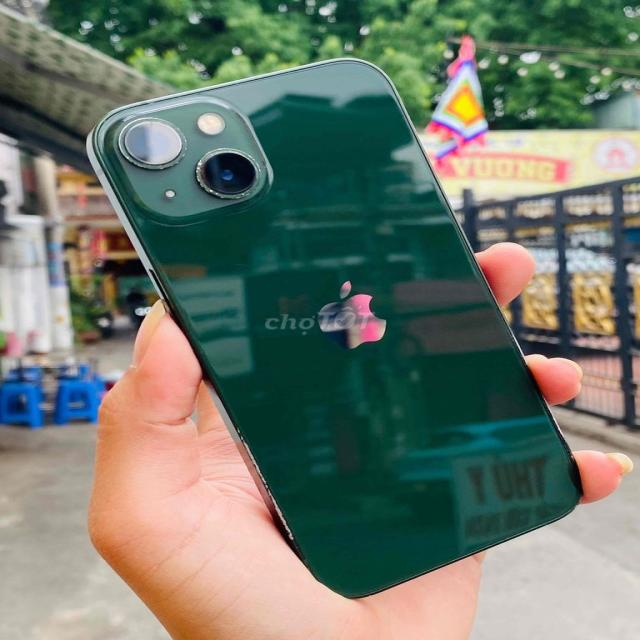gen_12_13: (82, 51, 592, 598)
